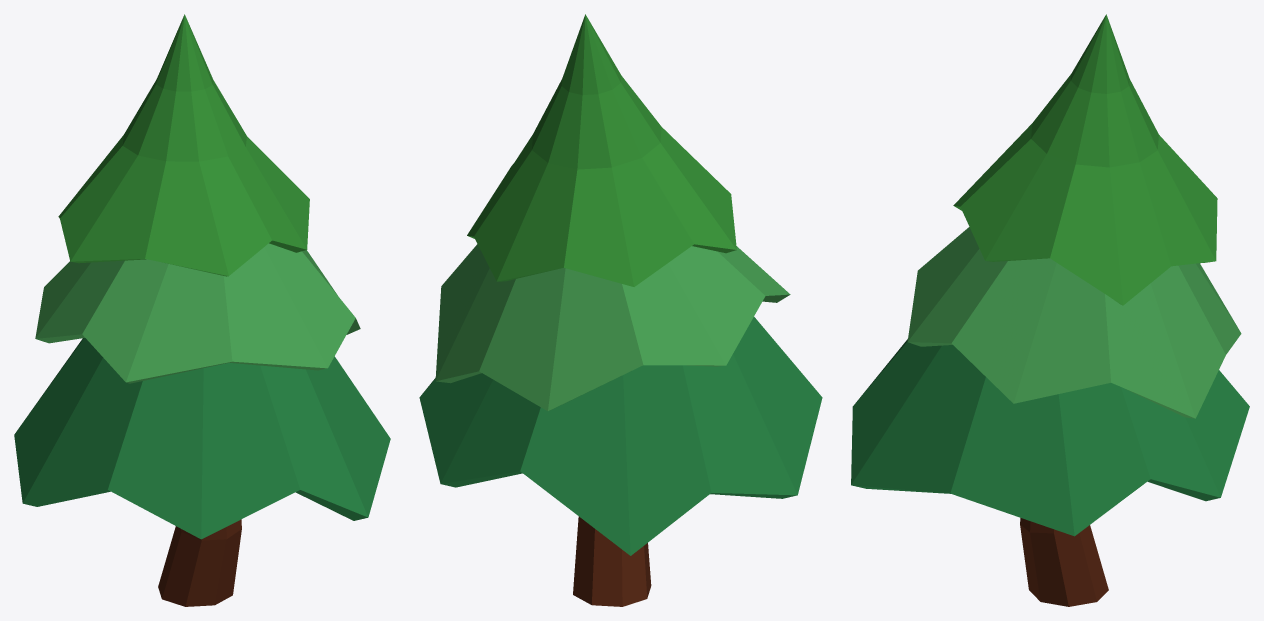
Rendered from pine_tree_2.glb.
The picture shows the model from 3 angles, left to right: view 1: azimuth 30°, elevation 25°; view 2: azimuth 150°, elevation 25°; view 3: azimuth 270°, elevation 25°; orthographic projection. The views are drawn at different scales.
Parts seen in each view (by area): view 1: pine_tree_2; view 2: pine_tree_2; view 3: pine_tree_2.
Boxes of the visible parts, x1,y1,x2,y2 form: pine_tree_2: (14, 14, 390, 606); pine_tree_2: (419, 14, 822, 606); pine_tree_2: (851, 14, 1249, 606).
Size of the model in its own units: 6.03 by 9.37 by 5.84.
